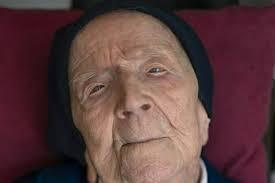Persons: (44, 0, 230, 183)
